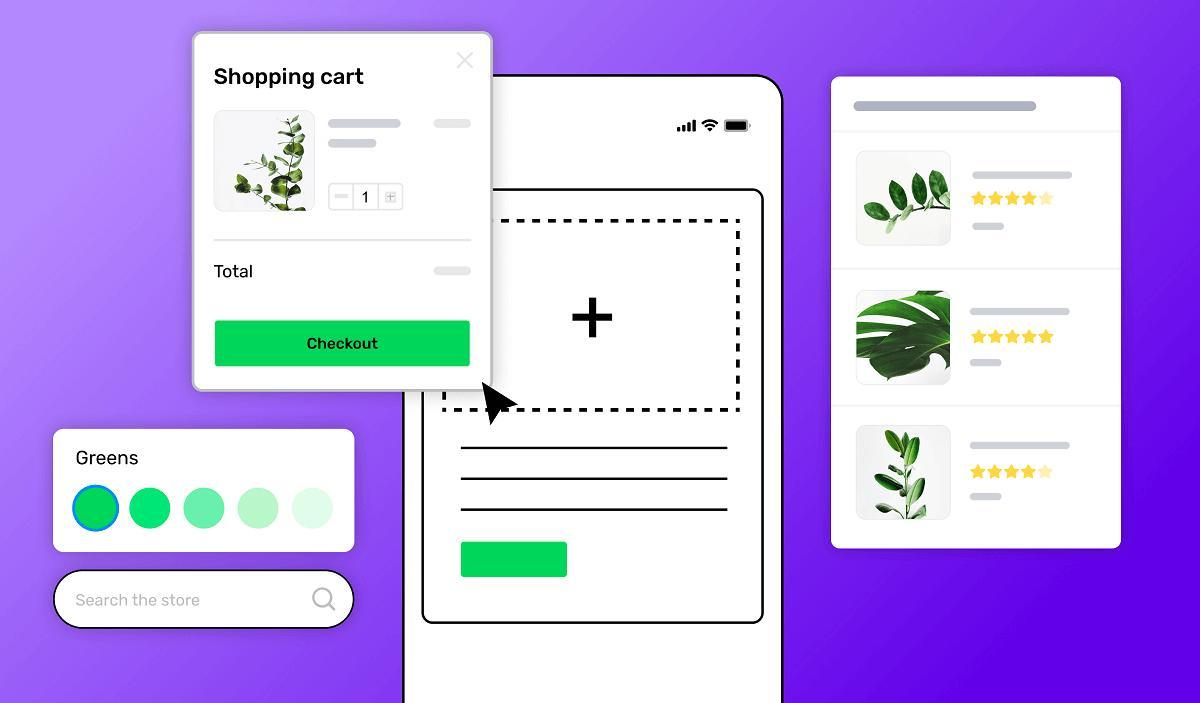button: (218, 323, 469, 367), (462, 542, 570, 577)
input: (54, 571, 356, 629)
